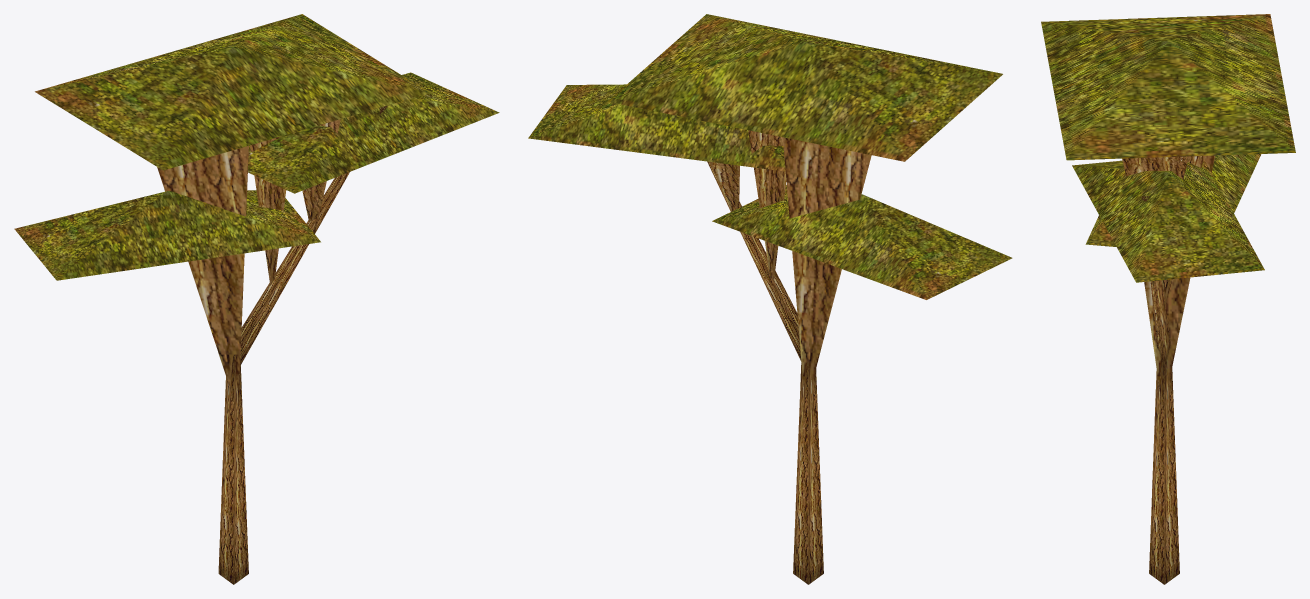
File: death.glb
3 renders of one model, left to right at view 1: azimuth 30°, elevation 25°; view 2: azimuth 150°, elevation 25°; view 3: azimuth 270°, elevation 25°, orthographic.
Visible parts, largest first — view 1: MeshRoot; view 2: MeshRoot; view 3: MeshRoot.
Boxes of the visible parts, x1,y1,x2,y2 form: MeshRoot: (14,14,499,584); MeshRoot: (528,14,1012,584); MeshRoot: (1041,14,1295,584).
Bounding box in the file's own units: 6.8 × 7.77 × 3.35.
1 material, 1 textured.
